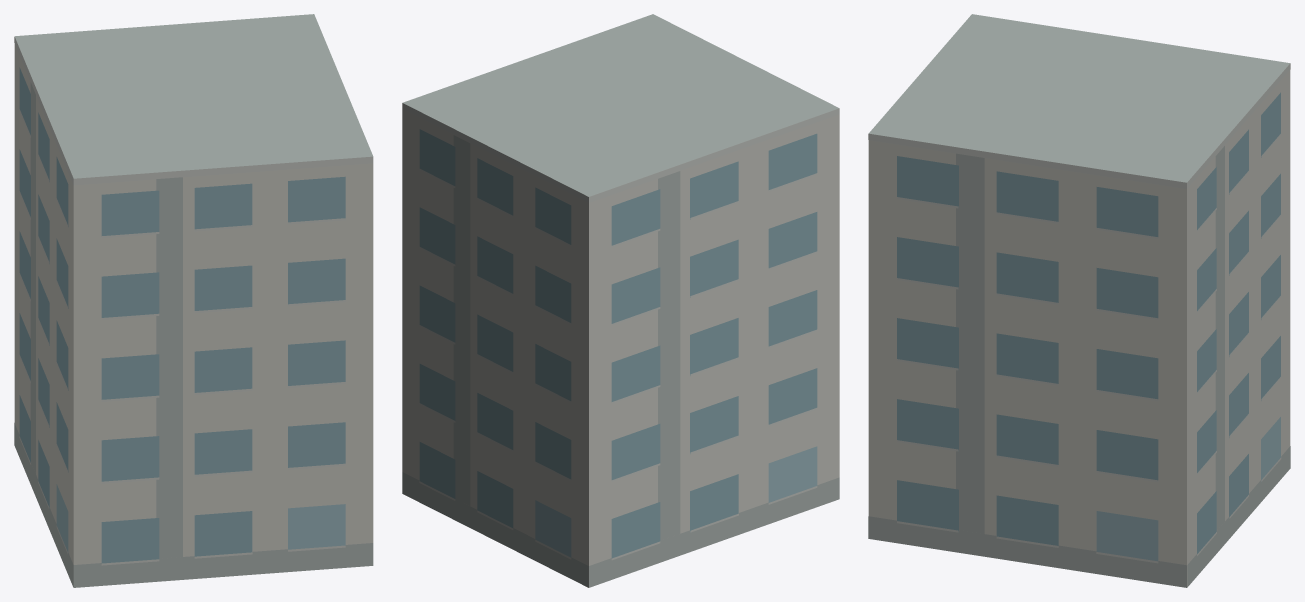
File: residential-57acf17f-fabd-47a6-b2d7-96f0da898a0b.glb
The picture shows the model from 3 angles, left to right: view 1: azimuth 30°, elevation 25°; view 2: azimuth 150°, elevation 25°; view 3: azimuth 270°, elevation 25°; orthographic projection. The views are drawn at different scales.
Parts seen in each view (by area): view 1: residential-57acf17f-fabd-47a6-b2d7-96f0da898a0b.tmp; view 2: residential-57acf17f-fabd-47a6-b2d7-96f0da898a0b.tmp; view 3: residential-57acf17f-fabd-47a6-b2d7-96f0da898a0b.tmp.
Part boxes in pixels (<box>): residential-57acf17f-fabd-47a6-b2d7-96f0da898a0b.tmp: <box>14,14,373,587</box>; residential-57acf17f-fabd-47a6-b2d7-96f0da898a0b.tmp: <box>402,14,839,587</box>; residential-57acf17f-fabd-47a6-b2d7-96f0da898a0b.tmp: <box>868,14,1290,587</box>.
Bounding box in the file's own units: 13.63 × 15.25 × 14.4.
